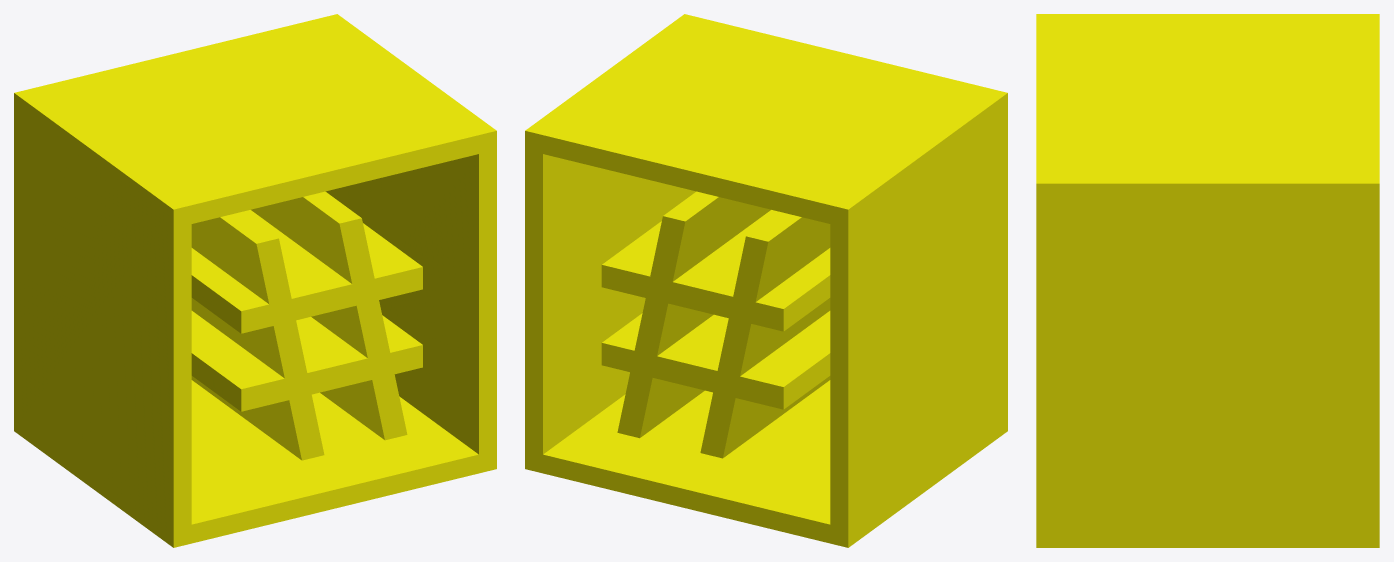
The model's file is HashHighlight.fbx.
The picture shows the model from 3 angles, left to right: view 1: azimuth 30°, elevation 25°; view 2: azimuth 150°, elevation 25°; view 3: azimuth 270°, elevation 25°; orthographic projection. The views are drawn at different scales.
Visible parts, largest first — view 1: Hash_Highlight; view 2: Hash_Highlight; view 3: Hash_Highlight.
Part boxes in pixels (x1,y1,x2,y2): Hash_Highlight: (14, 14, 496, 547); Hash_Highlight: (525, 14, 1007, 547); Hash_Highlight: (1036, 14, 1379, 547).
Bounding box in the file's own units: 224 × 224 × 191.
